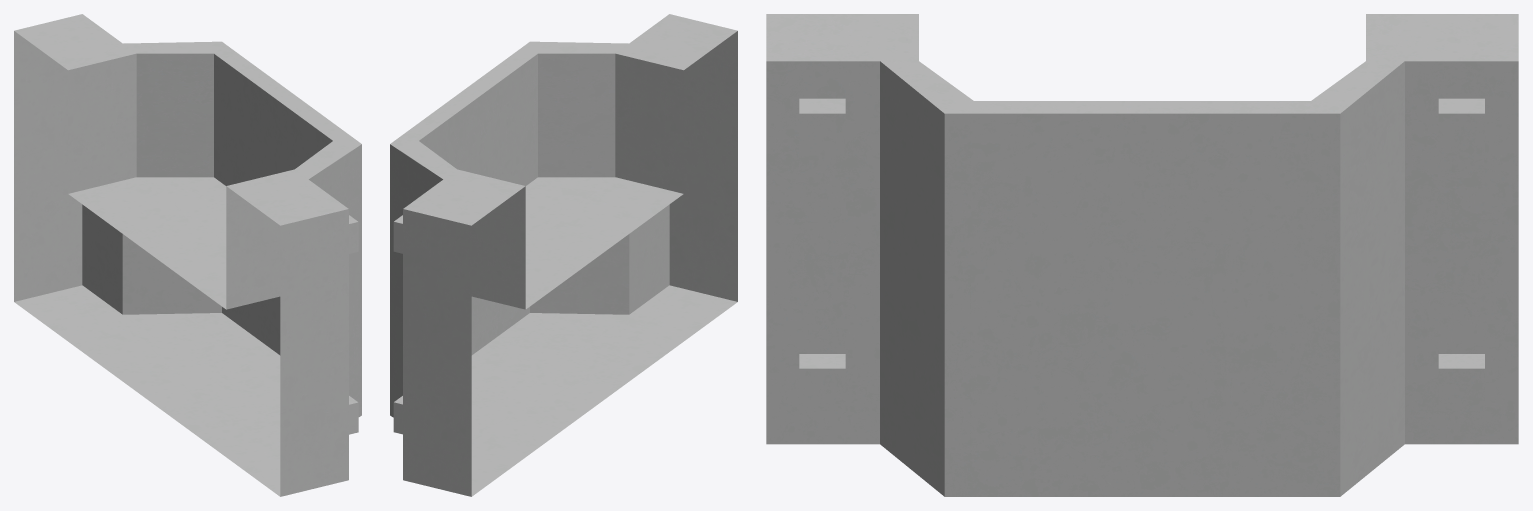
Rendered from SM_wall_lamp_a.fbx.
3 views of the same model, side by side, from view 1: azimuth 30°, elevation 25°; view 2: azimuth 150°, elevation 25°; view 3: azimuth 270°, elevation 25° (orthographic). The views are drawn at different scales.
Visible parts, largest first — view 1: pCube150; view 2: pCube150; view 3: pCube150.
Boxes of the visible parts, x1,y1,x2,y2 form: pCube150: (14, 14, 361, 496); pCube150: (390, 14, 737, 496); pCube150: (766, 14, 1518, 496).
Size of the model in its own units: 0.2359 by 0.4224 by 0.7517.
